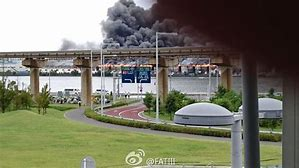smoke: (93, 1, 183, 48)
